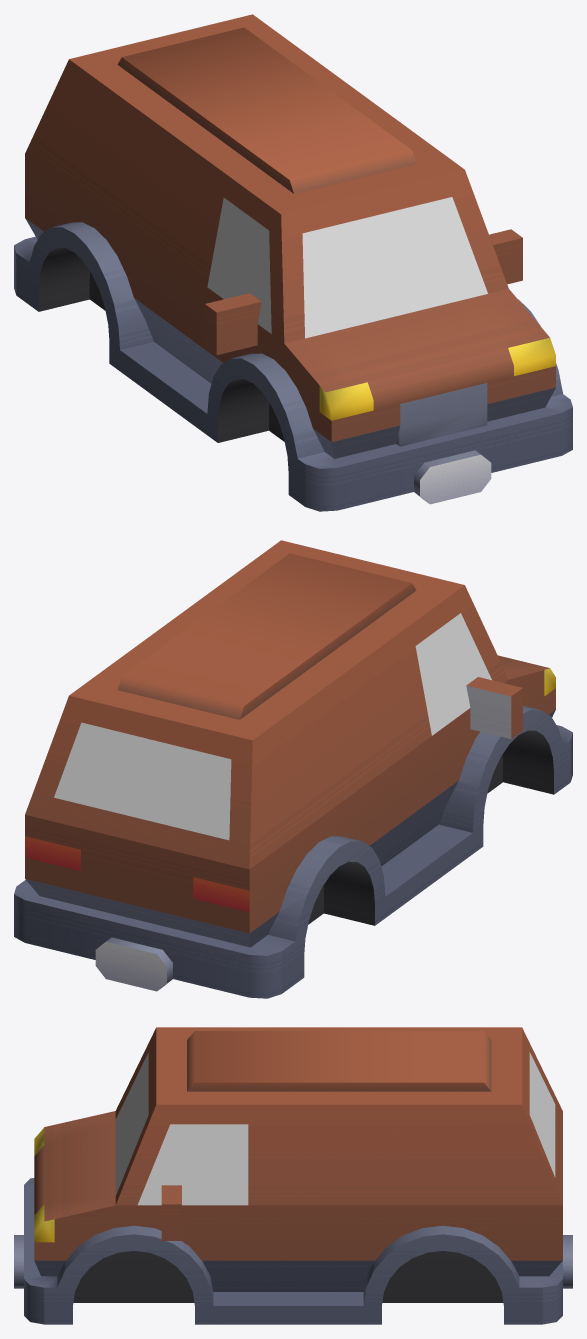
The model's file is vanBrownbody.glb.
3 views of the same model, one above another, from view 1: azimuth 30°, elevation 25°; view 2: azimuth 150°, elevation 25°; view 3: azimuth 270°, elevation 25° (orthographic). The views are drawn at different scales.
Parts seen in each view (by area): view 1: body, bodyFrontWindow, bodyRightWindow; view 2: body, bodyRearWindow, bodyRightWindow; view 3: body, bodyLeftWindow, bodyFrontWindow, bodyRearWindow.
Part boxes in pixels (x1=…): body: x1=14, y1=14, x2=572, y2=511; bodyFrontWindow: x1=302, y1=197, x2=487, y2=338; bodyRightWindow: x1=207, y1=197, x2=271, y2=333; body: x1=14, y1=540, x2=572, y2=998; bodyRearWindow: x1=54, y1=722, x2=231, y2=840; bodyRightWindow: x1=415, y1=613, x2=491, y2=735; body: x1=14, y1=1027, x2=572, y2=1324; bodyLeftWindow: x1=138, y1=1124, x2=248, y2=1205; bodyFrontWindow: x1=115, y1=1052, x2=148, y2=1195; bodyRearWindow: x1=529, y1=1052, x2=555, y2=1177.
Size of the model in its own units: 1.5 by 1.2 by 2.75.
2 materials, 1 textured.
